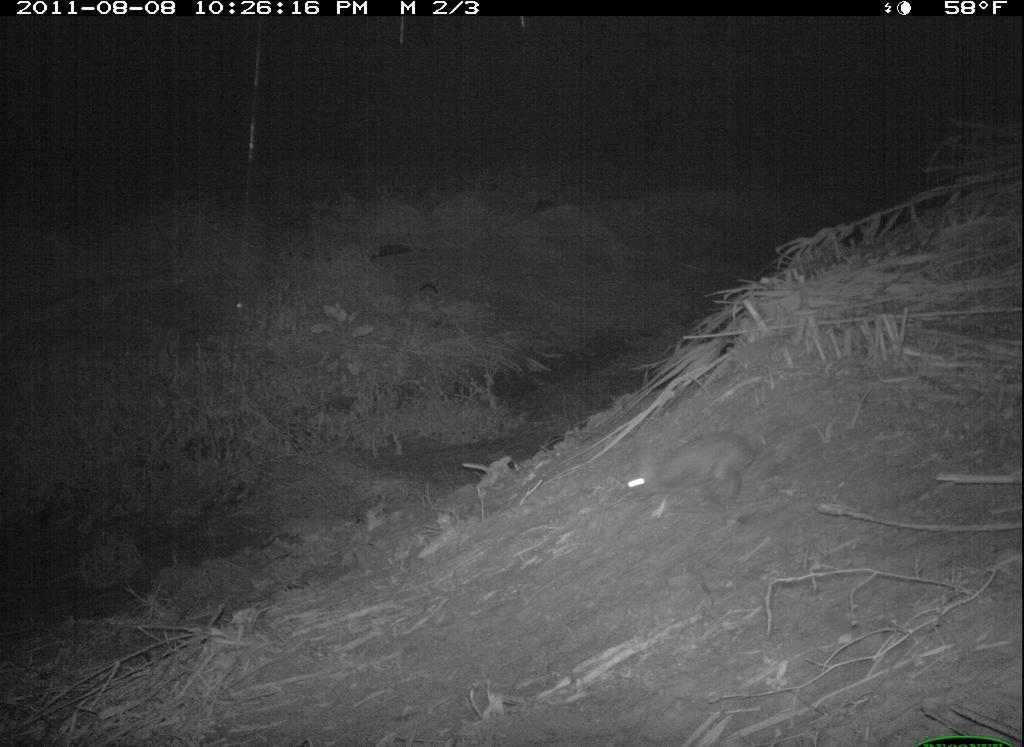rabbit: (615, 424, 766, 523)
